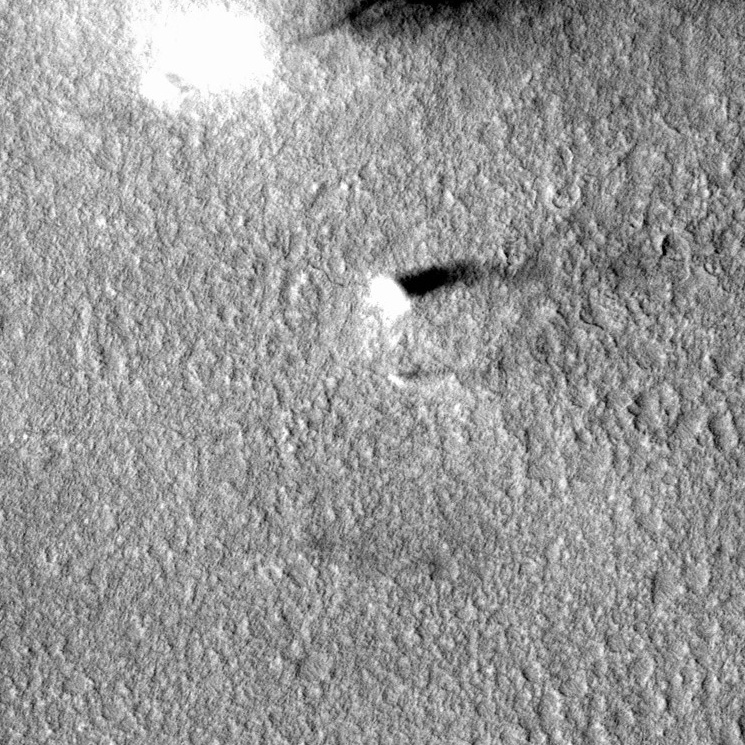dust_devil: (128, 1, 549, 114), (362, 254, 492, 328), (385, 362, 457, 389)
